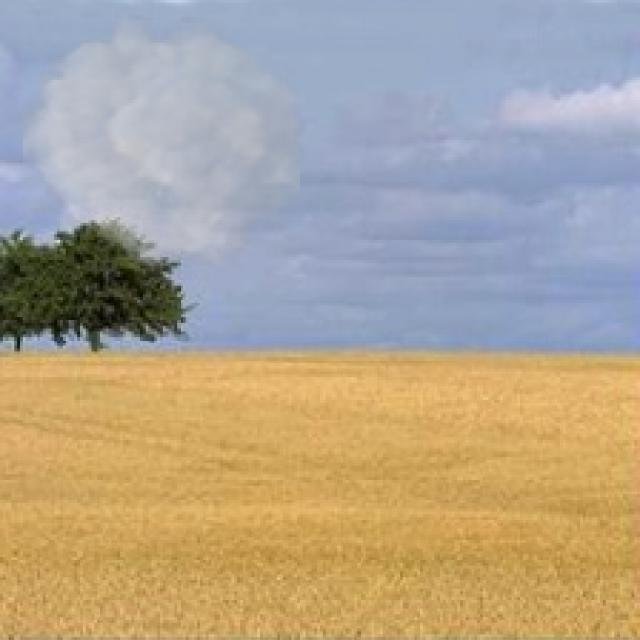smoke: (23, 9, 300, 280)
